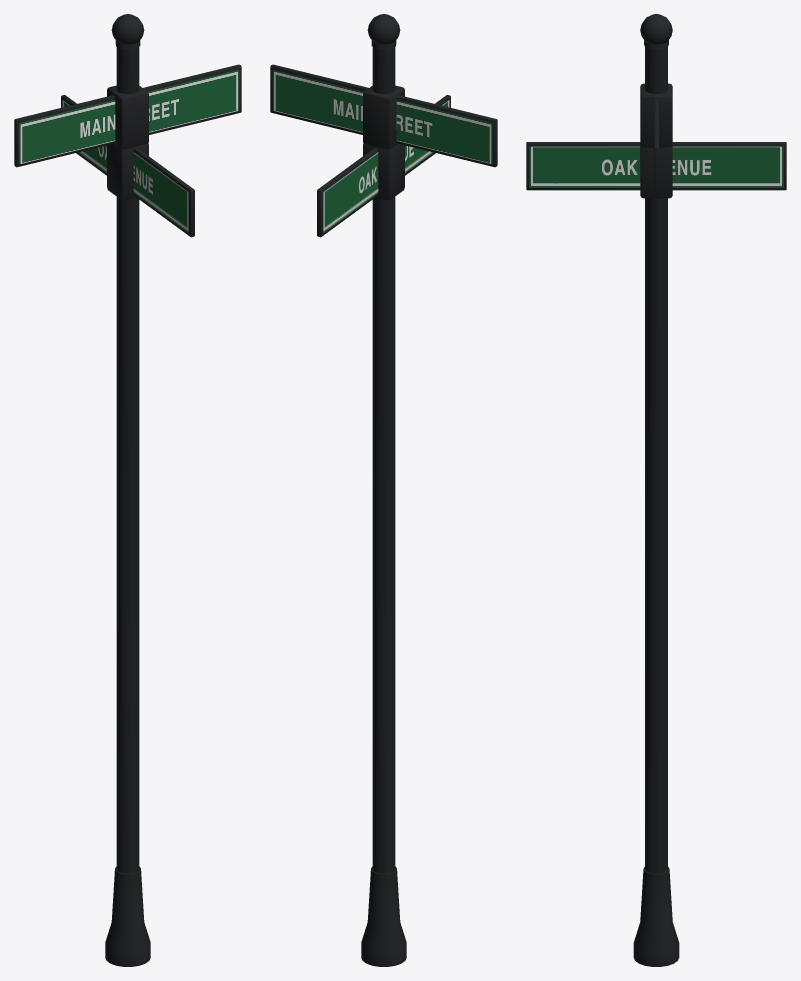
The model's file is street-name-sign.glb.
The picture shows the model from 3 angles, left to right: view 1: azimuth 30°, elevation 25°; view 2: azimuth 150°, elevation 25°; view 3: azimuth 270°, elevation 25°; orthographic projection.
Visible parts, largest first — view 1: Street_Name_Sign; view 2: Street_Name_Sign; view 3: Street_Name_Sign.
Part boxes in pixels (bbox=[...]): Street_Name_Sign: bbox=[14, 14, 241, 966]; Street_Name_Sign: bbox=[270, 14, 497, 966]; Street_Name_Sign: bbox=[526, 14, 786, 966].
Size of the model in its own units: 0.8 by 3.19 by 0.8.
Materials: 3 (1 with a texture image).
